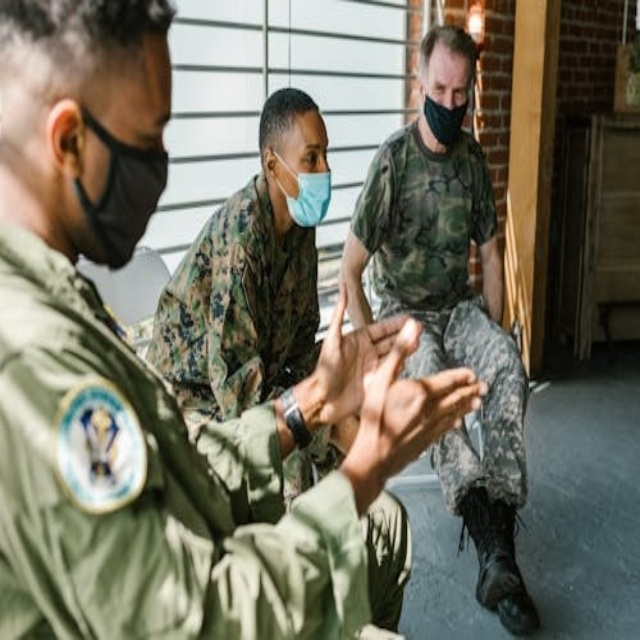Mascara: (70, 105, 169, 267), (273, 151, 331, 227), (422, 89, 469, 146)
Sin_gafas: (116, 100, 173, 146), (429, 75, 472, 111), (294, 144, 333, 169)
Sin_guantes: (342, 314, 488, 499), (311, 281, 417, 429)
